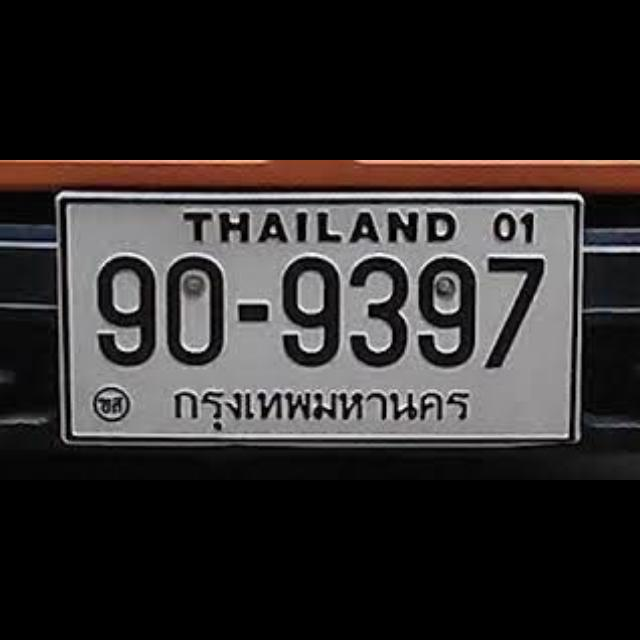licenseplate: (59, 192, 582, 442)
